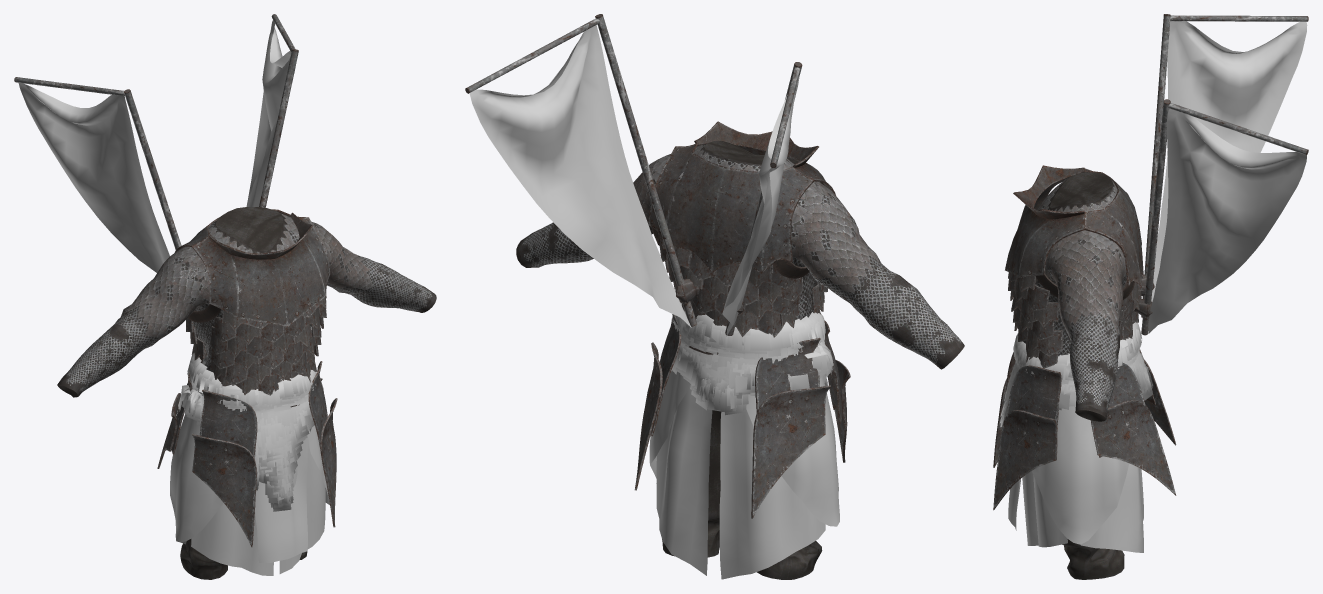
File: sk_gb_uruk_chest_lord_f.fbx
3 renders of one model, left to right at view 1: azimuth 30°, elevation 25°; view 2: azimuth 150°, elevation 25°; view 3: azimuth 270°, elevation 25°, orthographic. The views are drawn at different scales.
Visible parts, largest first — view 1: sk_gb_uruk_chest_lord_f.base.0, sk_gb_uruk_chest_lord_f.base.3, sk_gb_uruk_chest_lord_f.prop.1, sk_gb_uruk_chest_lord_f.skirt.1, sk_gb_uruk_chest_lord_f.base.1, sk_gb_uruk_chest_lord_f.skirt.2, sk_gb_uruk_chest_lord_f.prop.0; view 2: sk_gb_uruk_chest_lord_f.prop.1, sk_gb_uruk_chest_lord_f.skirt.1, sk_gb_uruk_chest_lord_f.base.3, sk_gb_uruk_chest_lord_f.base.0, sk_gb_uruk_chest_lord_f.base.1, sk_gb_uruk_chest_lord_f.skirt.2, sk_gb_uruk_chest_lord_f.prop.0; view 3: sk_gb_uruk_chest_lord_f.prop.1, sk_gb_uruk_chest_lord_f.base.0, sk_gb_uruk_chest_lord_f.skirt.1, sk_gb_uruk_chest_lord_f.base.1, sk_gb_uruk_chest_lord_f.base.3, sk_gb_uruk_chest_lord_f.prop.0, sk_gb_uruk_chest_lord_f.skirt.2.
Part boxes in pixels (left/top/right/bottom): sk_gb_uruk_chest_lord_f.base.0: left=57, top=207, right=436, bottom=579; sk_gb_uruk_chest_lord_f.base.3: left=174, top=209, right=330, bottom=395; sk_gb_uruk_chest_lord_f.prop.1: left=18, top=20, right=295, bottom=272; sk_gb_uruk_chest_lord_f.skirt.1: left=170, top=414, right=329, bottom=575; sk_gb_uruk_chest_lord_f.base.1: left=157, top=361, right=337, bottom=547; sk_gb_uruk_chest_lord_f.skirt.2: left=178, top=349, right=323, bottom=511; sk_gb_uruk_chest_lord_f.prop.0: left=14, top=14, right=298, bottom=250; sk_gb_uruk_chest_lord_f.prop.1: left=469, top=25, right=799, bottom=336; sk_gb_uruk_chest_lord_f.skirt.1: left=649, top=370, right=839, bottom=579; sk_gb_uruk_chest_lord_f.base.3: left=648, top=121, right=835, bottom=337; sk_gb_uruk_chest_lord_f.base.0: left=516, top=141, right=964, bottom=579; sk_gb_uruk_chest_lord_f.base.1: left=634, top=314, right=850, bottom=518; sk_gb_uruk_chest_lord_f.skirt.2: left=671, top=302, right=833, bottom=415; sk_gb_uruk_chest_lord_f.prop.0: left=465, top=14, right=802, bottom=335; sk_gb_uruk_chest_lord_f.prop.1: left=1148, top=21, right=1307, bottom=333; sk_gb_uruk_chest_lord_f.base.0: left=1035, top=172, right=1126, bottom=579; sk_gb_uruk_chest_lord_f.skirt.1: left=1008, top=406, right=1143, bottom=552; sk_gb_uruk_chest_lord_f.base.1: left=993, top=350, right=1176, bottom=510; sk_gb_uruk_chest_lord_f.base.3: left=1005, top=165, right=1143, bottom=368; sk_gb_uruk_chest_lord_f.prop.0: left=1133, top=14, right=1308, bottom=335; sk_gb_uruk_chest_lord_f.skirt.2: left=999, top=322, right=1153, bottom=431.
Size of the model in its own units: 1.35 by 0.9308 by 1.61.
